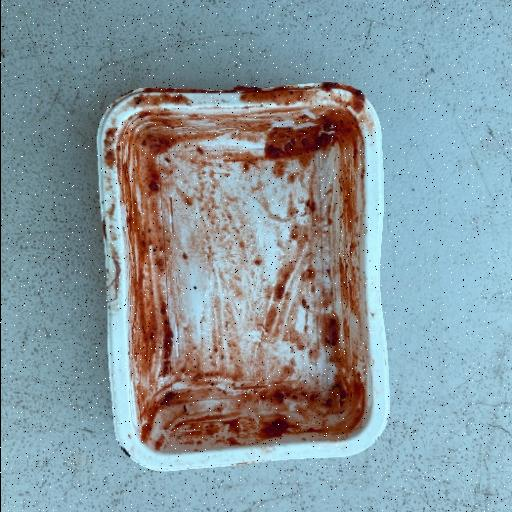Plastic: (95, 81, 390, 471)
